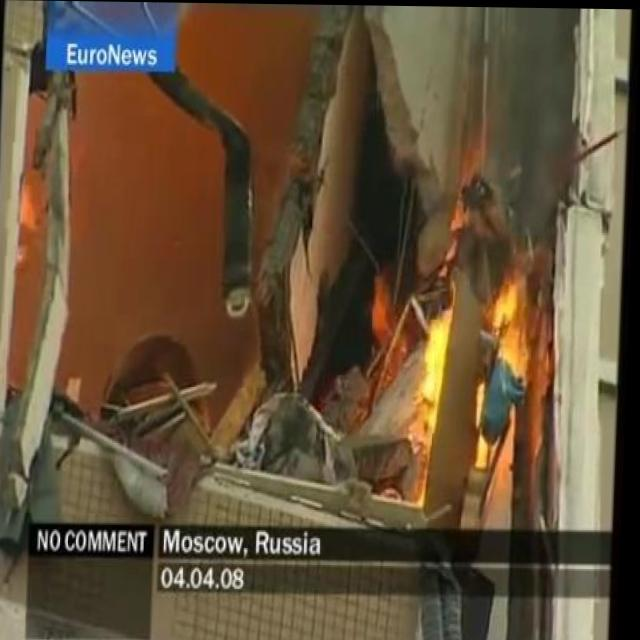fire: (415, 279, 527, 456), (372, 278, 399, 355), (22, 182, 41, 239)
